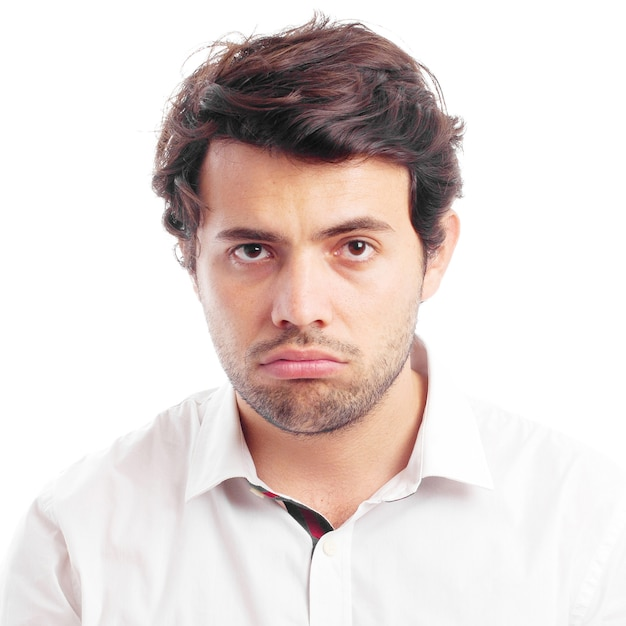young: (148, 34, 474, 435)
